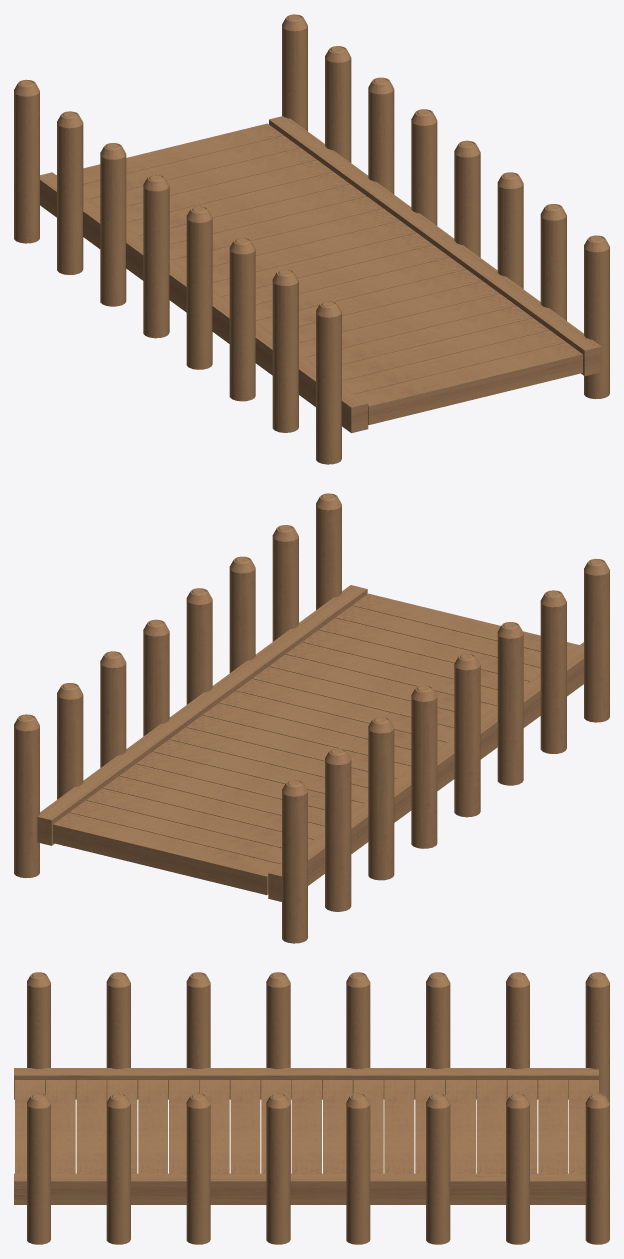
File: Pier.fbx
3 views of the same model, one above another, from view 1: azimuth 30°, elevation 25°; view 2: azimuth 150°, elevation 25°; view 3: azimuth 270°, elevation 25° (orthographic). The views are drawn at different scales.
Visible parts, largest first — view 1: Cube.001, Cylinder.001, Cube.002; view 2: Cylinder.001, Cube.001, Cube.002; view 3: Cylinder.001, Cube.001, Cube.002.
Boxes of the visible parts, x1,y1,x2,y2 form: Cube.001: (56,123,582,424); Cylinder.001: (14,14,609,464); Cube.002: (40,116,601,433); Cylinder.001: (14,493,609,943); Cube.001: (53,593,579,895); Cube.002: (37,585,583,901); Cylinder.001: (27,972,609,1244); Cube.001: (15,1080,598,1173); Cube.002: (14,1068,598,1204).
Size of the model in its own units: 714 by 363 by 1369.
